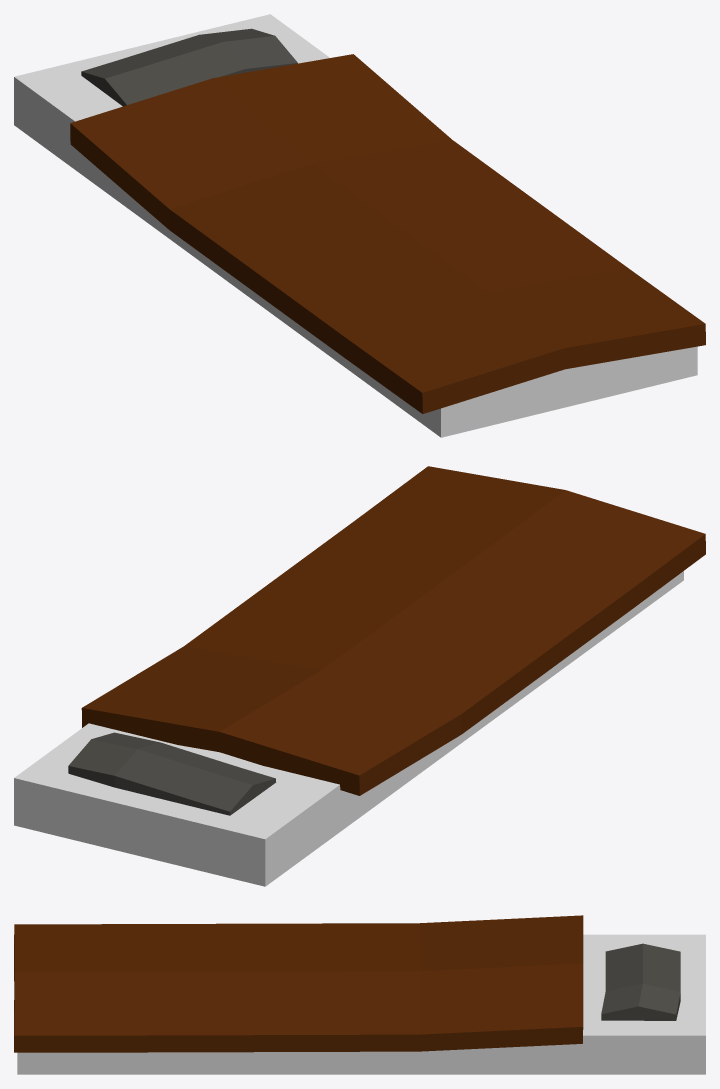
The model's file is Bed.fbx.
3 views of the same model, one above another, from view 1: azimuth 30°, elevation 25°; view 2: azimuth 150°, elevation 25°; view 3: azimuth 270°, elevation 25° (orthographic). The views are drawn at different scales.
Visible parts, largest first — view 1: Cube.002; view 2: Cube.002; view 3: Cube.002.
Part boxes in pixels (x1,y1,x2,y2): Cube.002: (14, 14, 705, 437); Cube.002: (14, 466, 705, 886); Cube.002: (14, 915, 705, 1074).
Bounding box in the file's own units: 1235 × 300 × 3212.
